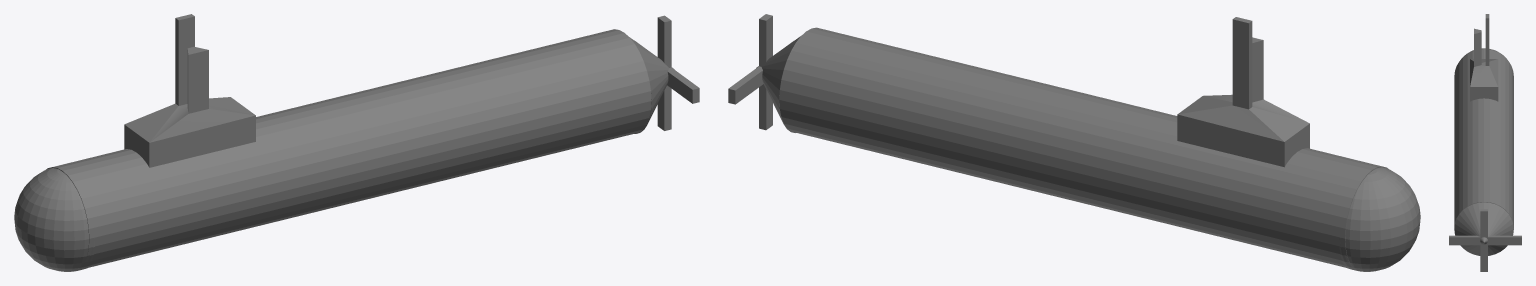
The model's file is Shark.fbx.
The picture shows the model from 3 angles, left to right: view 1: azimuth 30°, elevation 25°; view 2: azimuth 150°, elevation 25°; view 3: azimuth 270°, elevation 25°; orthographic projection. The views are drawn at different scales.
Visible parts, largest first — view 1: base, push; view 2: base, push; view 3: base, push.
Boxes of the visible parts, bbox=[...] form: base: bbox=[14, 14, 674, 271]; push: bbox=[634, 15, 699, 130]; base: bbox=[756, 17, 1420, 271]; push: bbox=[728, 14, 793, 130]; base: bbox=[1454, 14, 1513, 255]; push: bbox=[1449, 209, 1521, 271].
Size of the model in its own units: 1412 by 464 by 245.
Materials: 1 (1 with a texture image).
